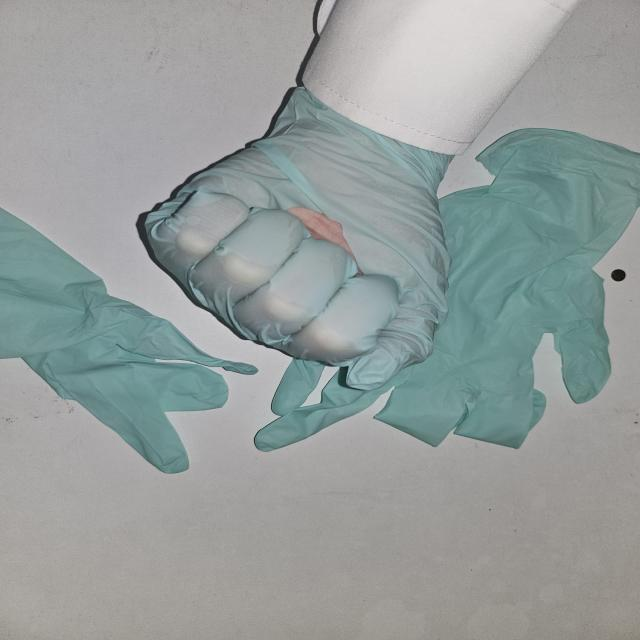gloves_damaged: (130, 82, 462, 393)
